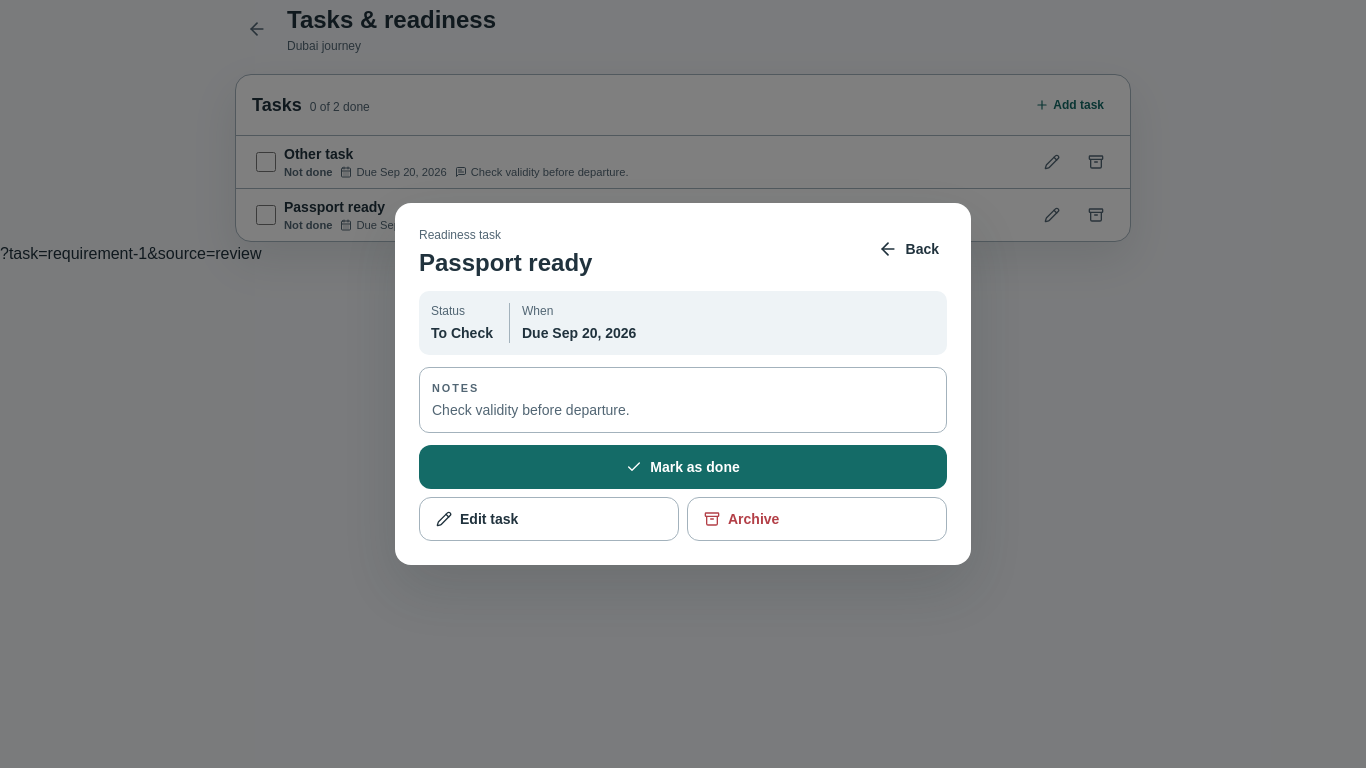
it: readiness checklist interactions › opens the exact linked task after loading and clears the target when closed
Expected: the text "Check validity before departure." is shown, 432,402 -> 630,418
Click the button "Back". click: click(908, 249)
box: 870,227 -> 947,271
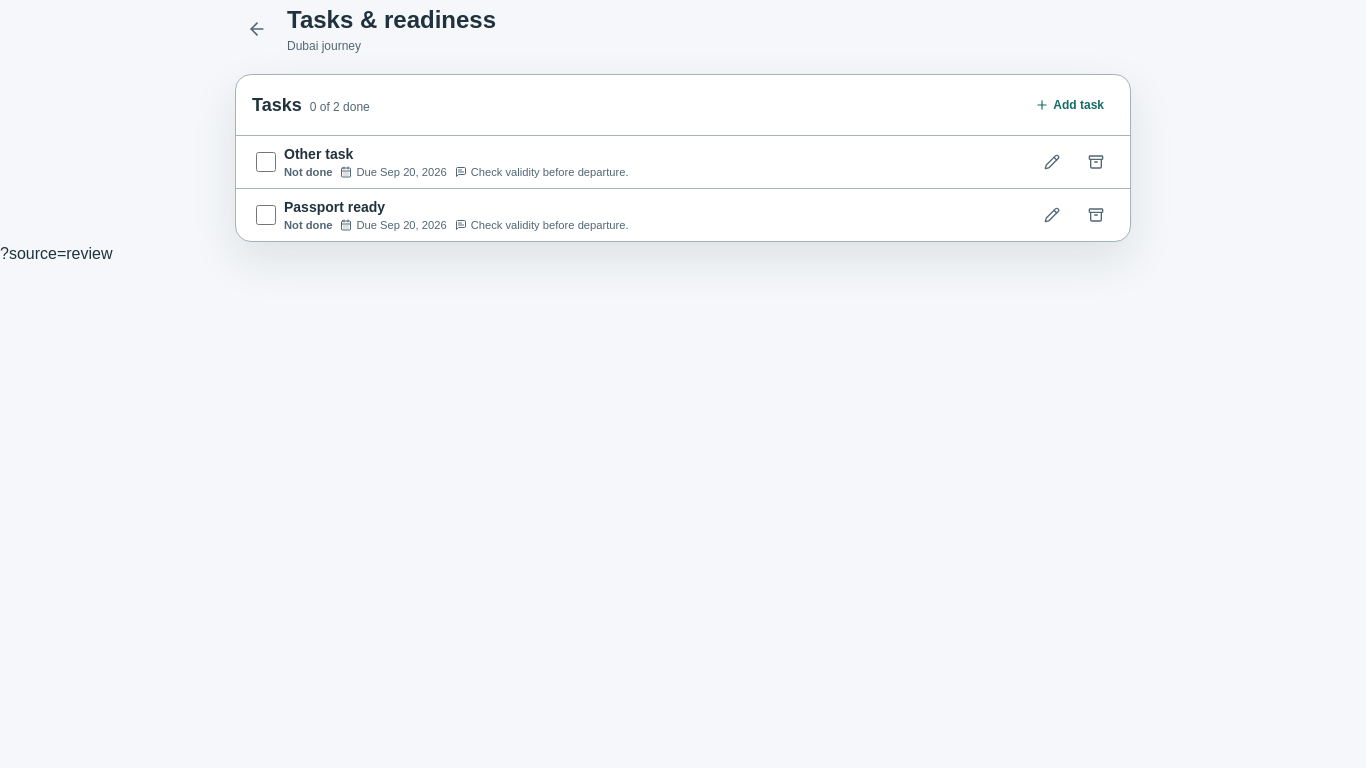
Expected: the dialog is gone
Expected: the text named "Current search" reads "?source=review", 0,245 -> 112,262
Expected: the text named "Current search" no longer shows "task=", 0,245 -> 112,262
